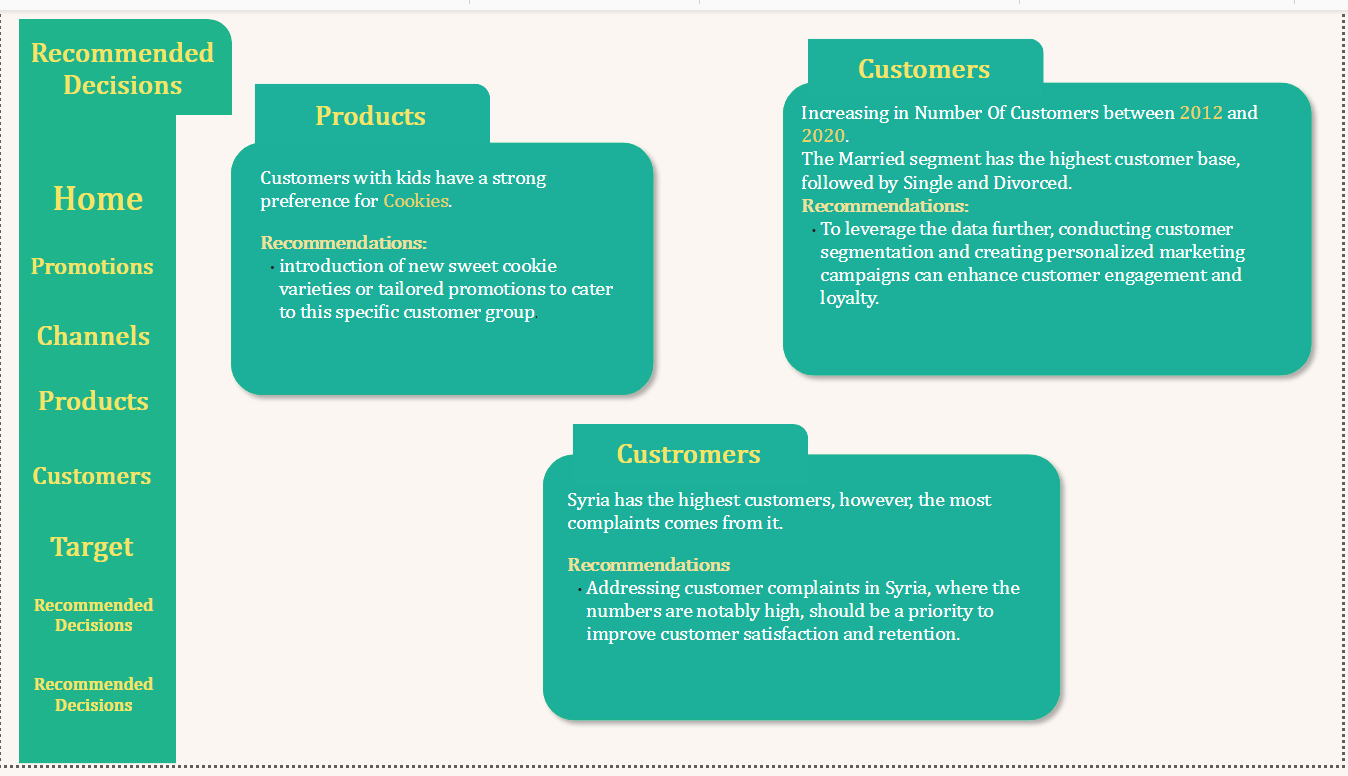

What the dashboard file says about the page in this screenshot:
{"tool":"powerbi","page":{"name":"Recommended_Decisions2","canvas":[1280,720],"ordinal":7},"visuals":[{"type":"shape","box":[16.7,86.7,150,631.7],"z":0},{"type":"shape","box":[16.7,8.3,203.3,91.7],"z":1000},{"type":"actionButton","box":[28.3,153.3,126.7,56.7],"z":2000},{"type":"actionButton","box":[23.3,218.3,126.7,55],"z":3000},{"type":"actionButton","box":[25,285,126.7,55],"z":4000},{"type":"actionButton","box":[25,346.7,126.7,56.7],"z":5000},{"type":"actionButton","box":[23.3,418.3,126.7,55],"z":6000},{"type":"actionButton","box":[23.3,485,126.7,56.7],"z":7000},{"type":"shape","box":[210.3,117.6,421.2,259.1],"z":8000},{"type":"textbox","box":[242.1,144.6,356,205],"z":9000},{"type":"shape","box":[737.2,60.6,522.5,297.7],"z":10000},{"type":"textbox","box":[758.6,83.5,472.4,247.6],"z":11000},{"type":"shape","box":[241.8,69.6,225,60],"z":12000},{"type":"shape","box":[770,27.4,225,56.7],"z":13000},{"type":"actionButton","box":[23.3,541.7,130,75],"z":14000},{"type":"shape","box":[508.6,414.8,511.8,271.8],"z":15000},{"type":"textbox","box":[535.6,453,445,193.9],"z":16000},{"type":"shape","box":[545.3,395.8,225,56.7],"z":17000},{"type":"actionButton","box":[23.2,617,130.1,74.4],"z":18000}]}

Visuals, with their boxes in screenshot pixels (x1, y1, x2, y2), scaled from the page's 1280x720 canvas onto the 1348x776 screenshot:
shape: <box>18,93,176,774</box>
shape: <box>18,9,232,108</box>
actionButton: <box>30,165,163,226</box>
actionButton: <box>25,235,158,295</box>
actionButton: <box>26,307,160,366</box>
actionButton: <box>26,374,160,435</box>
actionButton: <box>25,451,158,510</box>
actionButton: <box>25,523,158,584</box>
shape: <box>221,127,665,406</box>
textbox: <box>255,156,630,377</box>
shape: <box>776,65,1327,386</box>
textbox: <box>799,90,1296,357</box>
shape: <box>255,75,492,140</box>
shape: <box>811,30,1048,91</box>
actionButton: <box>25,584,161,665</box>
shape: <box>536,447,1075,740</box>
textbox: <box>564,488,1033,697</box>
shape: <box>574,427,811,488</box>
actionButton: <box>24,665,161,745</box>
